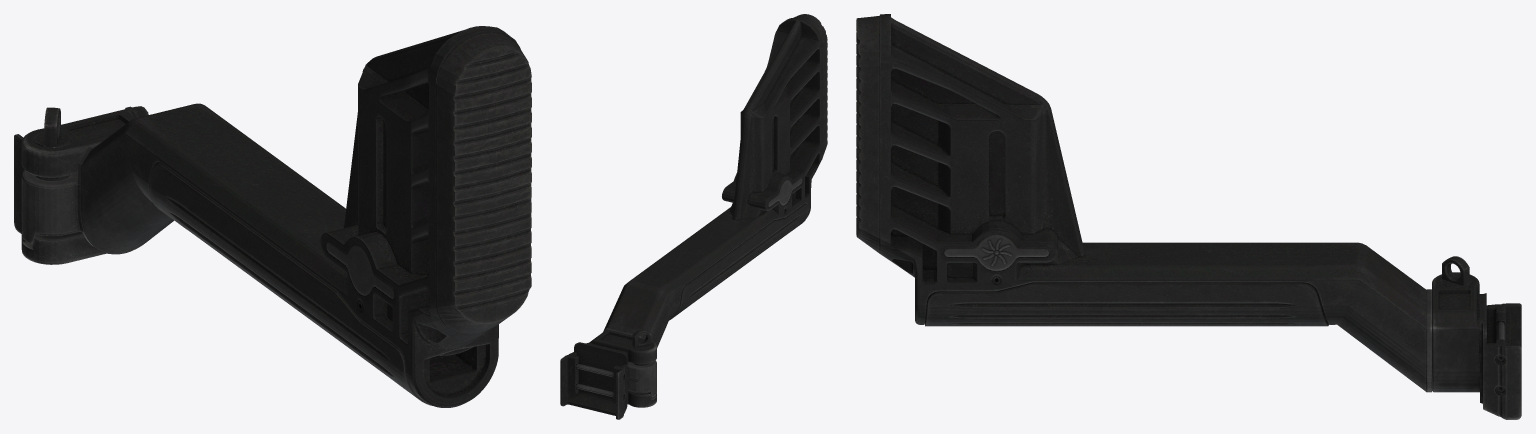
3 renders of one model, left to right at view 1: azimuth 30°, elevation 25°; view 2: azimuth 150°, elevation 25°; view 3: azimuth 270°, elevation 25°, orthographic. The views are drawn at different scales.
Parts seen in each view (by area): view 1: TW_66867310f3734a938b077f79_PZ_Import; view 2: TW_66867310f3734a938b077f79_PZ_Import; view 3: TW_66867310f3734a938b077f79_PZ_Import.
Boxes of the visible parts, <box> form: TW_66867310f3734a938b077f79_PZ_Import: <box>14,26,531,407</box>; TW_66867310f3734a938b077f79_PZ_Import: <box>560,14,827,419</box>; TW_66867310f3734a938b077f79_PZ_Import: <box>856,14,1521,419</box>.
Size of the model in its own units: 0.0289 by 0.1477 by 0.0923.
Materials: 1 (1 with a texture image).
